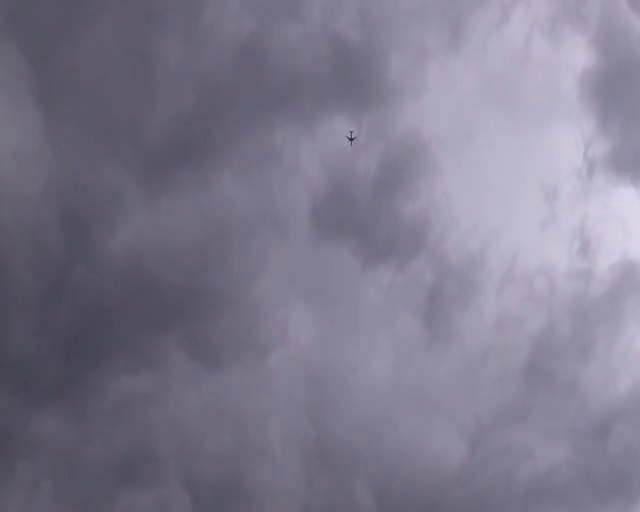AIRPLANE: (345, 129, 357, 146)
